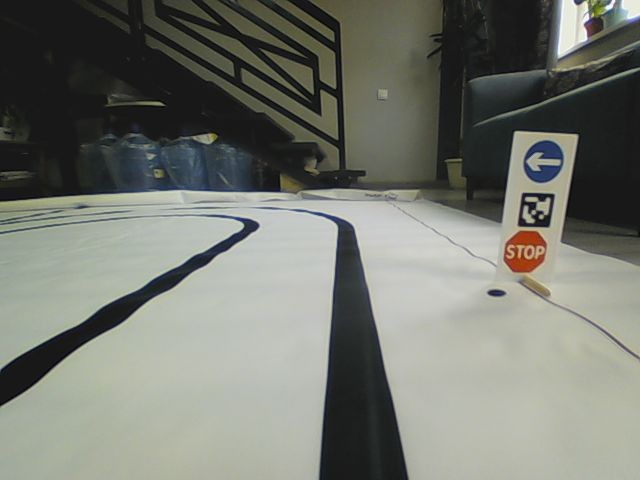Stop: (501, 230, 548, 274)
